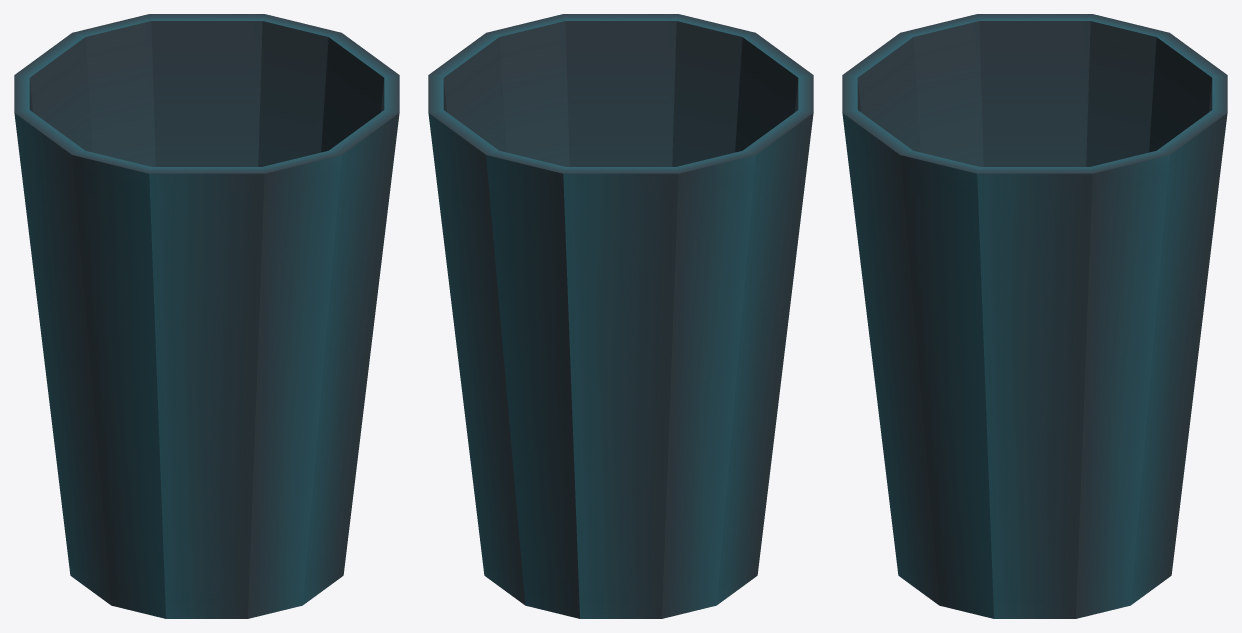
Rendered from trashcan_small.fbx.
3 views of the same model, side by side, from view 1: azimuth 30°, elevation 25°; view 2: azimuth 150°, elevation 25°; view 3: azimuth 270°, elevation 25° (orthographic).
Parts seen in each view (by area): view 1: Trashcan_v1; view 2: Trashcan_v1; view 3: Trashcan_v1.
Boxes of the visible parts, bbox=[...] form: Trashcan_v1: bbox=[14, 14, 399, 618]; Trashcan_v1: bbox=[428, 14, 813, 618]; Trashcan_v1: bbox=[842, 14, 1227, 618].
Bounding box in the file's own units: 137 × 187 × 139.
